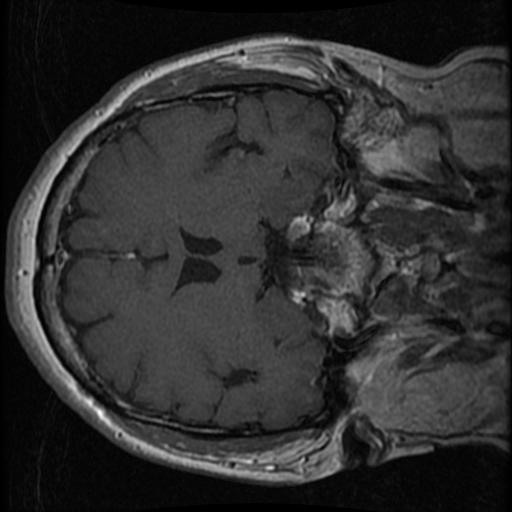pituitary tumour: (284, 217, 311, 241)
